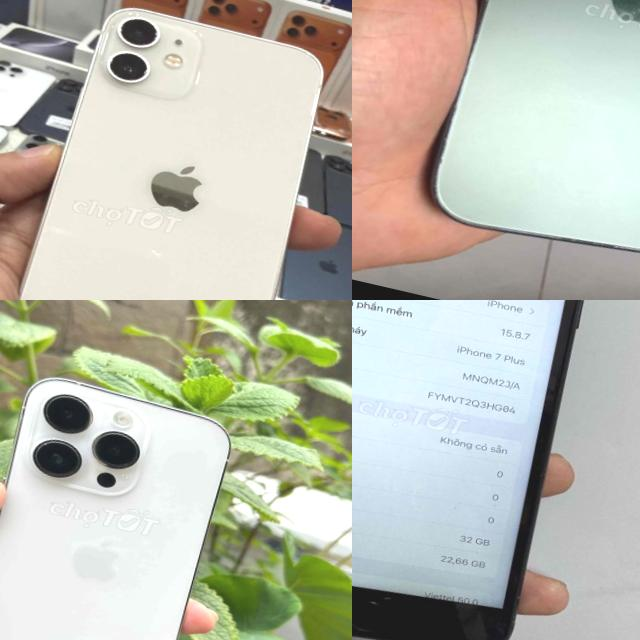gen_12_13: (0, 0, 335, 300), (412, 0, 640, 300)
gen_14: (0, 359, 247, 640)
gen_7_8: (352, 300, 631, 640)
